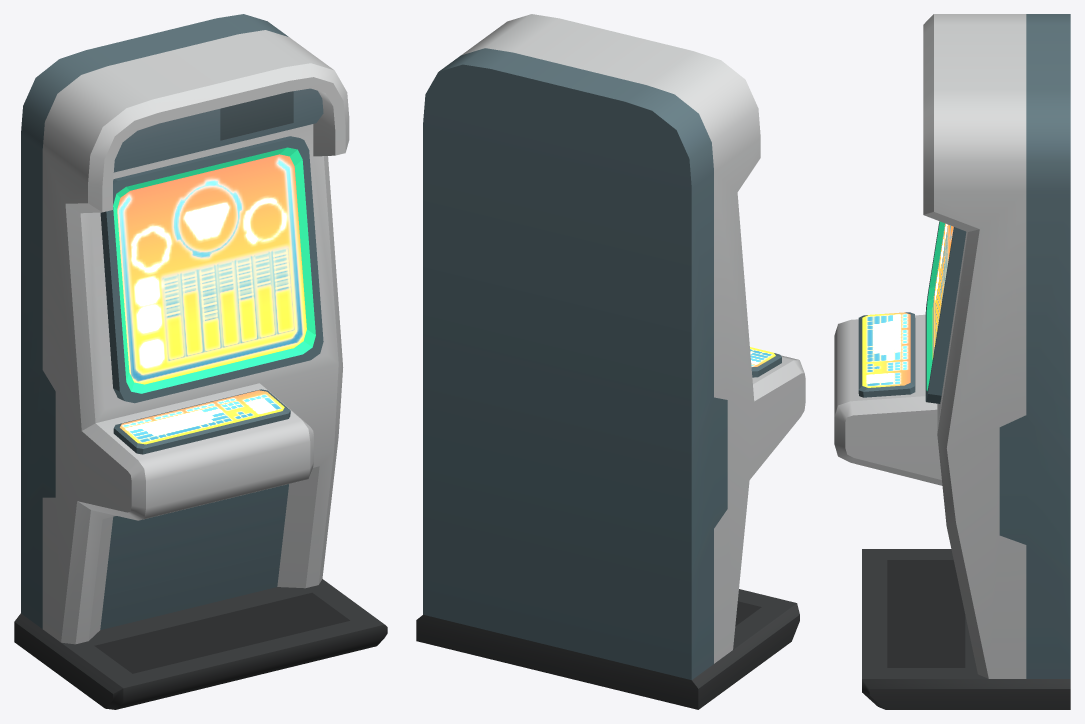
Rendered from Terminal_004.glb.
3 views of the same model, side by side, from view 1: azimuth 30°, elevation 25°; view 2: azimuth 150°, elevation 25°; view 3: azimuth 270°, elevation 25° (orthographic). The views are drawn at different scales.
Parts seen in each view (by area): view 1: Terminal_004; view 2: Terminal_004; view 3: Terminal_004.
Boxes of the visible parts, box(x1,y1,x2,y2) form: Terminal_004: box(14, 14, 387, 709); Terminal_004: box(416, 14, 805, 709); Terminal_004: box(834, 14, 1070, 709).
Bounding box in the file's own units: 1.05 × 2.1 × 0.769.
2 materials, 2 textured.
